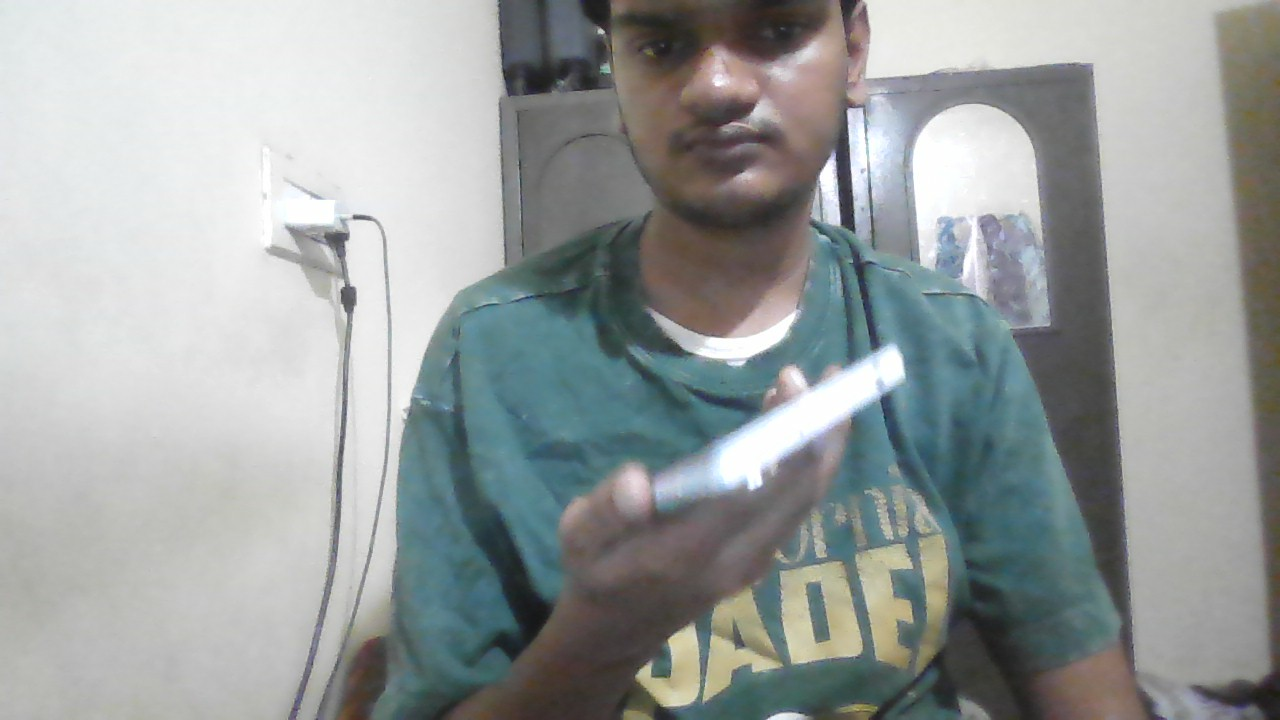phone: (664, 349, 928, 469)
